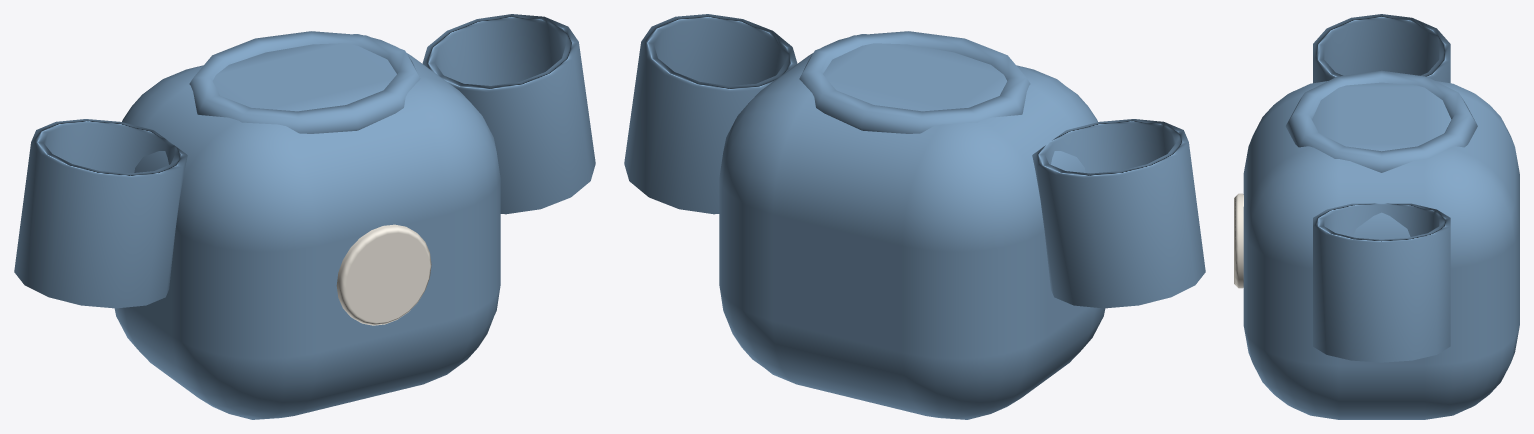
Rendered from blue_hotel_tee.glb.
3 views of the same model, side by side, from view 1: azimuth 30°, elevation 25°; view 2: azimuth 150°, elevation 25°; view 3: azimuth 270°, elevation 25° (orthographic). The views are drawn at different scales.
Visible parts, largest first — view 1: blue_hotel_tee_Body, blue_hotel_tee_ArmL, blue_hotel_tee_ArmR; view 2: blue_hotel_tee_Body, blue_hotel_tee_ArmL, blue_hotel_tee_ArmR; view 3: blue_hotel_tee_Body, blue_hotel_tee_ArmR, blue_hotel_tee_ArmL.
Part boxes in pixels (x1,y1,x2,y2): blue_hotel_tee_Body: (114, 31, 500, 419); blue_hotel_tee_ArmL: (14, 119, 187, 308); blue_hotel_tee_ArmR: (422, 14, 595, 214); blue_hotel_tee_Body: (719, 31, 1105, 419); blue_hotel_tee_ArmL: (1032, 119, 1205, 308); blue_hotel_tee_ArmR: (624, 14, 797, 214); blue_hotel_tee_Body: (1234, 70, 1519, 419); blue_hotel_tee_ArmR: (1313, 203, 1450, 362); blue_hotel_tee_ArmL: (1313, 14, 1450, 83).
Size of the model in its own units: 0.6053 by 0.3119 by 0.3.
